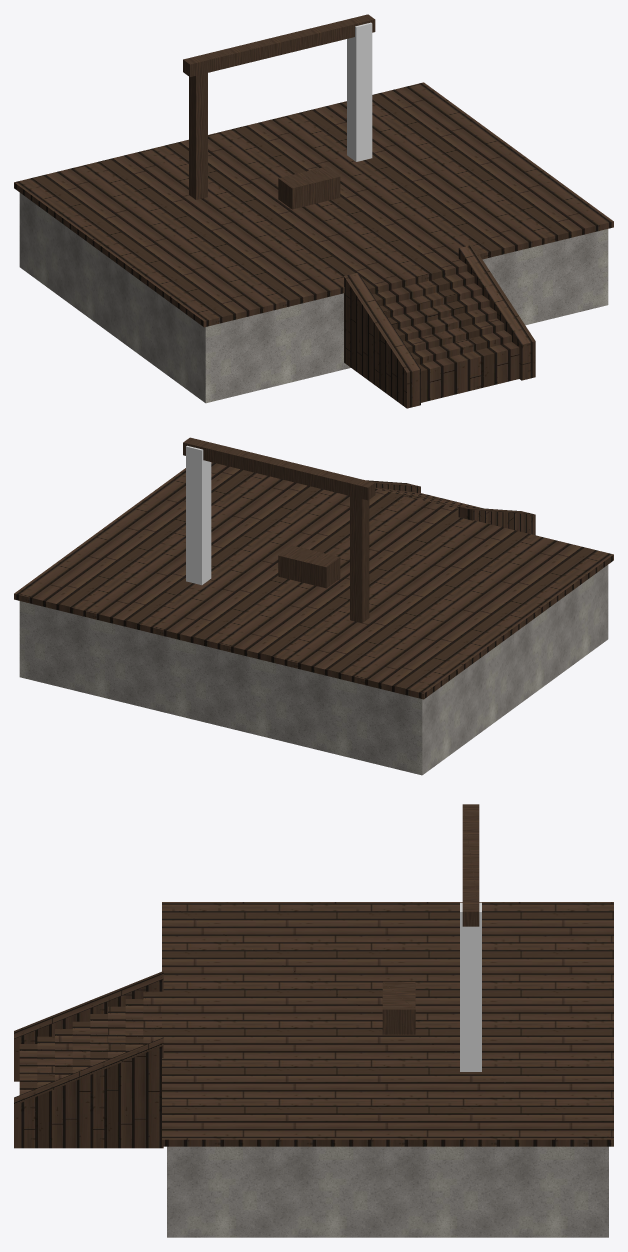
File: execution_platform.glb
3 views of the same model, one above another, from view 1: azimuth 30°, elevation 25°; view 2: azimuth 150°, elevation 25°; view 3: azimuth 270°, elevation 25° (orthographic). The views are drawn at different scales.
Visible parts, largest first — view 1: ExecPodiumCap, ExecPodiumBase, ExecStairsfront, ExecCheeksfront, Frame, Post-convcolonly.001; view 2: ExecPodiumCap, ExecPodiumBase, Frame, Post-convcolonly.001, ExecCheeksfront, ExecStairsfront; view 3: ExecPodiumCap, ExecPodiumBase, ExecCheeksfront, ExecStairsfront, Frame, Post-convcolonly.001.
Part boxes in pixels (x1,y1,x2,y2): ExecPodiumCap: (14, 82, 613, 327); ExecPodiumBase: (19, 193, 608, 403); ExecStairsfront: (364, 259, 519, 402); ExecCheeksfront: (344, 244, 535, 408); Frame: (183, 14, 375, 209); Post-convcolonly.001: (347, 22, 372, 161); ExecPodiumCap: (14, 462, 613, 699); ExecPodiumBase: (19, 565, 608, 775); Frame: (183, 437, 375, 622); Post-convcolonly.001: (186, 445, 211, 585); ExecCheeksfront: (366, 480, 535, 535); ExecStairsfront: (375, 487, 482, 516); ExecPodiumCap: (162, 902, 613, 1146); ExecPodiumBase: (167, 1146, 608, 1237); ExecCheeksfront: (14, 971, 163, 1148); ExecStairsfront: (19, 991, 161, 1094); Frame: (382, 804, 479, 1034); Post-convcolonly.001: (460, 902, 481, 1071).
Size of what is drawn, in the model's own units: 10.18 by 5.25 by 10.86.
Materials: 3 (3 with a texture image).
